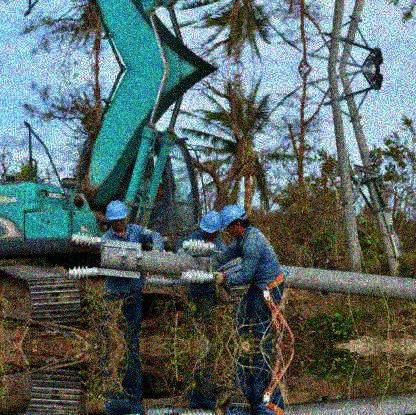helmet: (104, 200, 130, 234), (220, 205, 246, 238), (199, 211, 221, 239)
